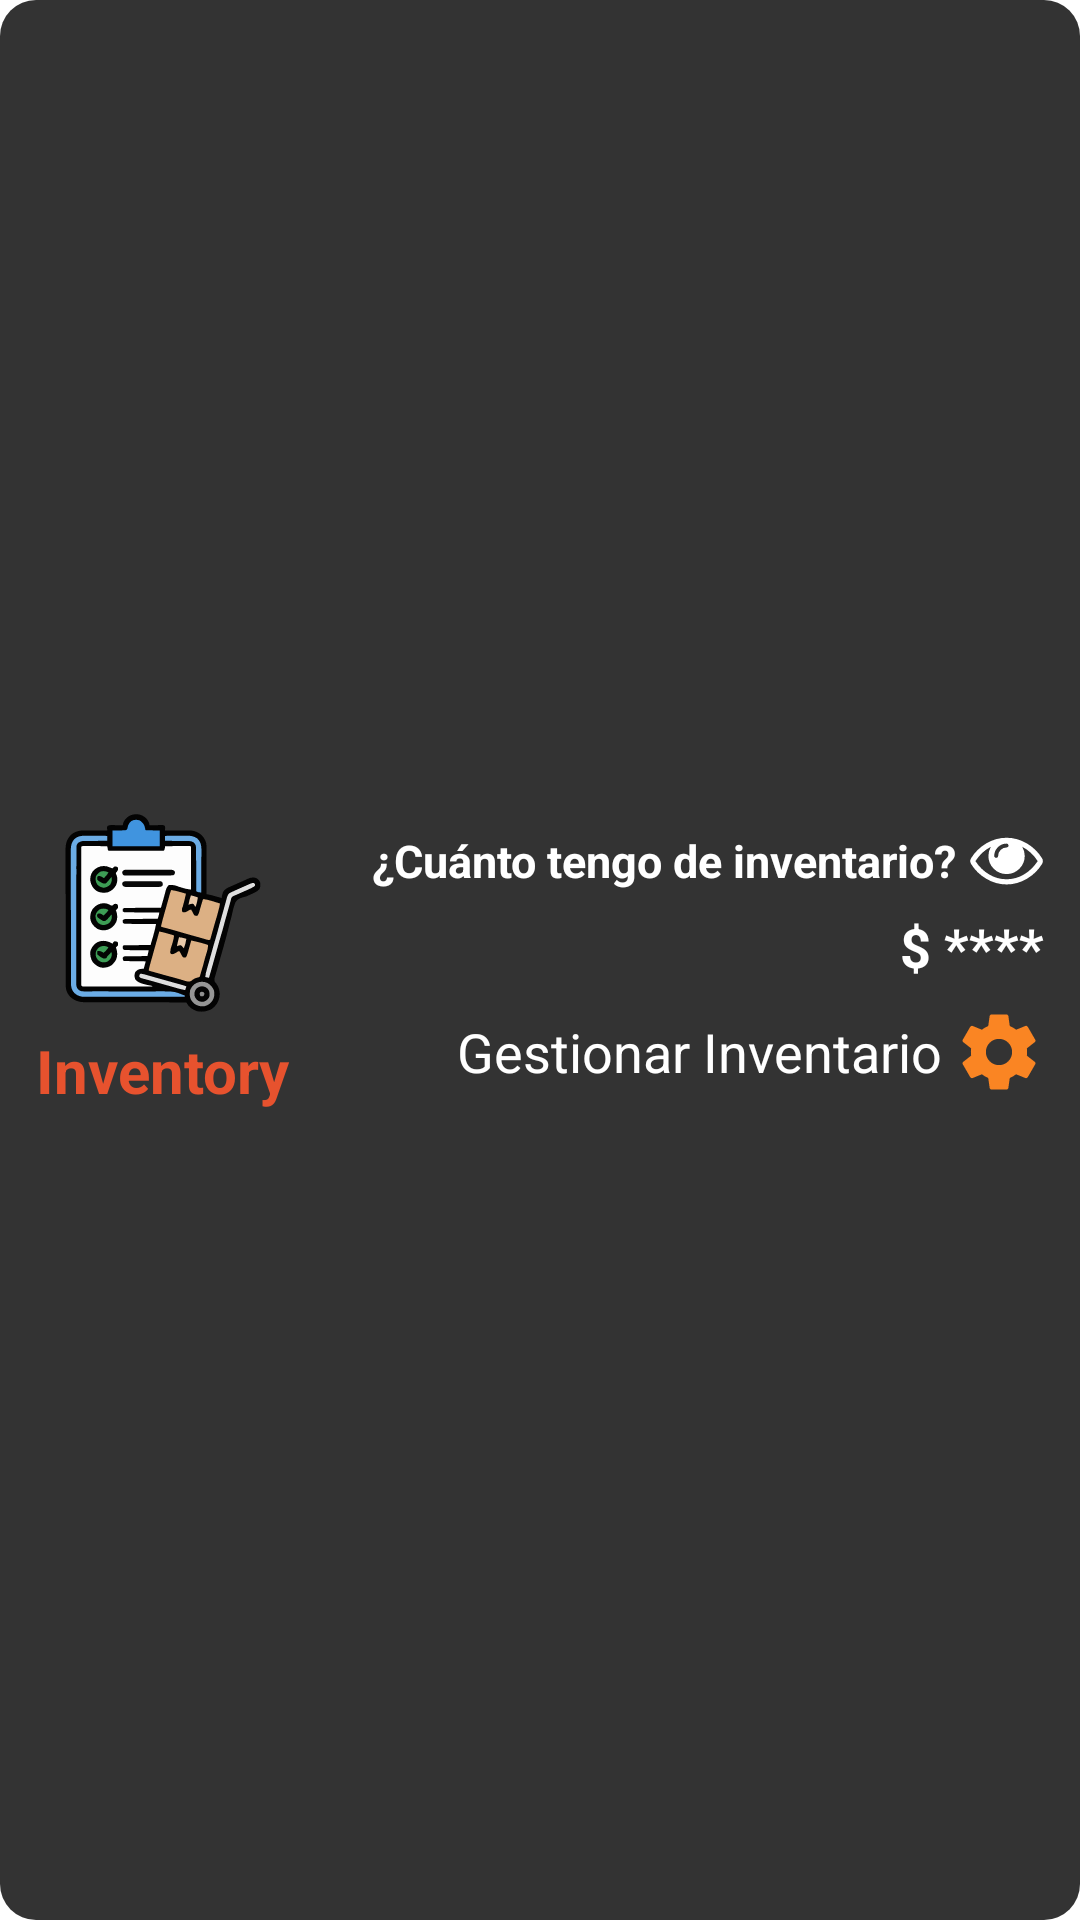

Locate icon controls on the screen. Image size 1080x1920, boxes as (x1, y1, x2, y2).
eye open: (970, 837, 1043, 885)
manage: (962, 1014, 1036, 1090)
